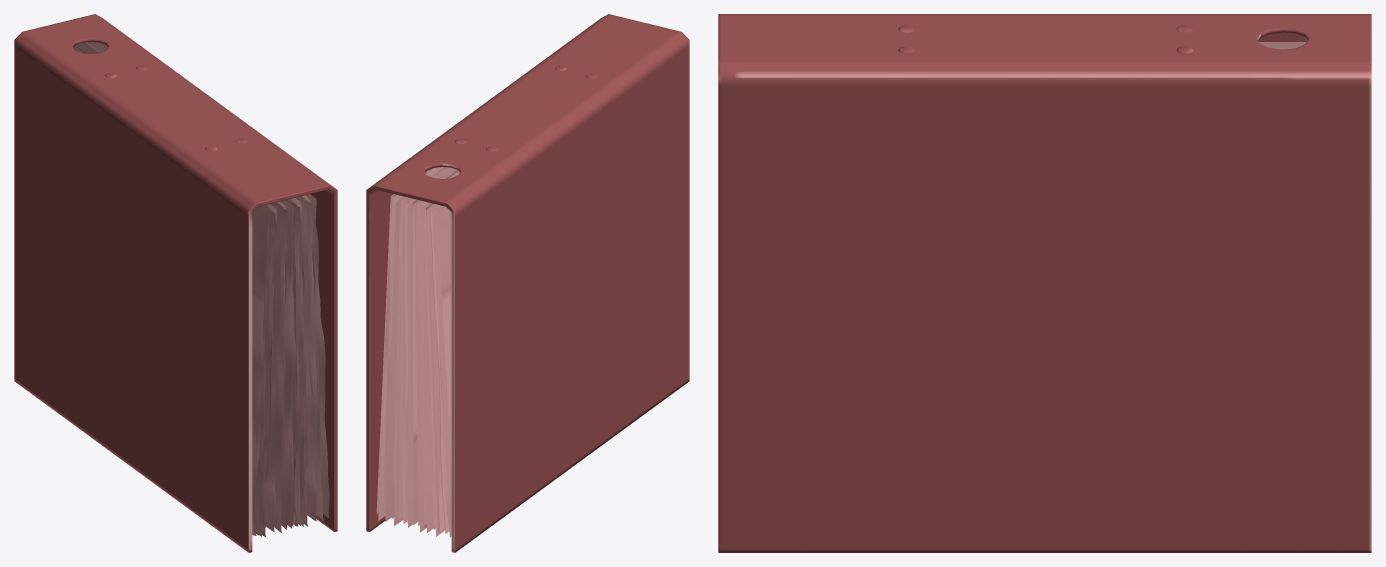
Rendered from red_book_interference_light_red.obj.
3 renders of one model, left to right at view 1: azimuth 30°, elevation 25°; view 2: azimuth 150°, elevation 25°; view 3: azimuth 270°, elevation 25°, orthographic. The views are drawn at different scales.
Parts seen in each view (by area): view 1: red_book_interference_light_red_Chocofur_Office_06.000, red_book_interference_light_red_Chocofur_Office_06.002; view 2: red_book_interference_light_red_Chocofur_Office_06.000, red_book_interference_light_red_Chocofur_Office_06.002; view 3: red_book_interference_light_red_Chocofur_Office_06.000.
Boxes of the visible parts, bbox=[...] form: red_book_interference_light_red_Chocofur_Office_06.000: bbox=[14, 14, 337, 552]; red_book_interference_light_red_Chocofur_Office_06.002: bbox=[73, 42, 329, 536]; red_book_interference_light_red_Chocofur_Office_06.000: bbox=[366, 14, 689, 552]; red_book_interference_light_red_Chocofur_Office_06.002: bbox=[376, 167, 459, 537]; red_book_interference_light_red_Chocofur_Office_06.000: bbox=[718, 14, 1371, 552].
Bounding box in the file's own units: 0.0755 × 0.2833 × 0.3455.
Materials: 3 (3 with a texture image).
